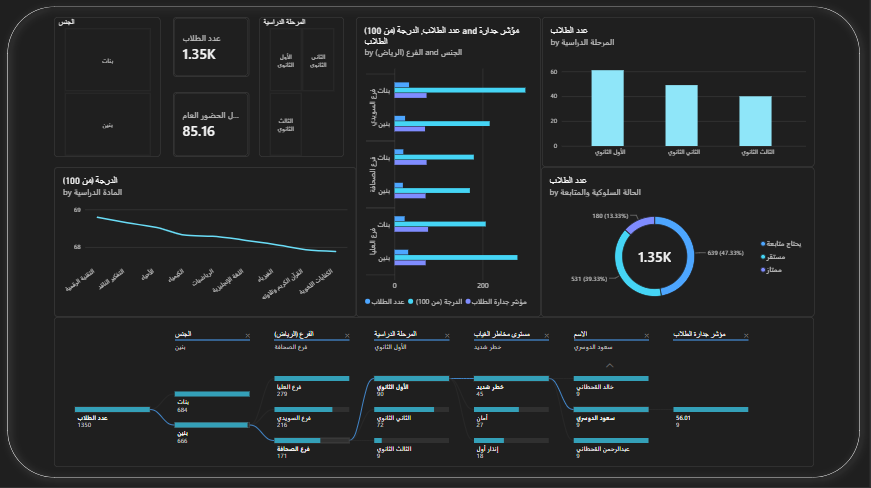

The dashboard page shown, as its layout file describes it:
{"tool":"powerbi","page":{"name":"لوحة تحكم مدرسي","canvas":[1920,1080],"ordinal":0},"visuals":[{"type":"shape","box":[87.5,50,1742.5,980],"z":0},{"type":"cardVisual","fields":{"Data":["CountNonNull(الأداء الأكاديمي والدرجات.رقم الطالب)"]},"box":[437.5,90,152.5,120],"z":1000},{"type":"cardVisual","fields":{"Data":["Avg(بيانات الطلاب الشخصية.معدل الحضور العام (%))"]},"box":[437.5,240,152.5,130],"z":2000},{"type":"lineChart","fields":{"Category":["الأداء الأكاديمي والدرجات.المادة الدراسية"],"Y":["Avg(الأداء الأكاديمي والدرجات.الدرجة (من 100))"]},"box":[200,390,605,300],"z":3000},{"type":"donutChart","fields":{"Category":["الأداء الأكاديمي والدرجات.الحالة السلوكية والمتابعة"],"Y":["CountNonNull(الأداء الأكاديمي والدرجات.رقم الطالب)"]},"box":[1174.2,390.6,546.8,299.8],"z":4000},{"type":"clusteredBarChart","fields":{"Category":["بيانات الطلاب الشخصية.الفرع (الرياض)","بيانات الطلاب الشخصية.الجنس"],"Y":["CountNonNull(بيانات الطلاب الشخصية.رقم الطالب)","CountNonNull(الأداء الأكاديمي والدرجات.الدرجة (من 100))","Avg(بيانات الطلاب الشخصية.مؤشر جدارة الطلاب)"]},"box":[803.8,90.7,370.4,599.7],"z":5000},{"type":"clusteredColumnChart","fields":{"Category":["بيانات الطلاب الشخصية.المرحلة الدراسية"],"Y":["CountNonNull(بيانات الطلاب الشخصية.رقم الطالب)"]},"box":[1175,90,545,300],"z":6000},{"type":"slicer","fields":{"Values":["بيانات الطلاب الشخصية.الجنس"]},"box":[200,90,212.5,280],"z":7000},{"type":"slicer","fields":{"Values":["بيانات الطلاب الشخصية.المرحلة الدراسية"]},"box":[610,90,170,280],"z":8000},{"type":"decompositionTreeVisual","fields":{"Analyze":["CountNonNull(الأداء الأكاديمي والدرجات.رقم الطالب)"],"ExplainBy":["بيانات الطلاب الشخصية.الجنس","بيانات الطلاب الشخصية.الفرع (الرياض)","بيانات الطلاب الشخصية.المرحلة الدراسية","بيانات الطلاب الشخصية.مستوى مخاطر الغياب","بيانات الطلاب الشخصية.الاسم","بيانات الطلاب الشخصية.مؤشر جدارة الطلاب"]},"box":[200,690,1520,300],"z":9000}]}

Visuals, with their boxes in screenshot pixels (x1, y1, x2, y2), scaled from the page's 1920x1080 canvas onto the 871x488 screenshot:
shape: (x1=40, y1=23, x2=830, y2=465)
cardVisual - CountNonNull(الأداء الأكاديمي والدرجات.رقم الطالب): (x1=198, y1=41, x2=268, y2=95)
cardVisual - Avg(بيانات الطلاب الشخصية.معدل الحضور العام (%)): (x1=198, y1=108, x2=268, y2=167)
lineChart - الأداء الأكاديمي والدرجات.المادة الدراسية x Avg(الأداء الأكاديمي والدرجات.الدرجة (من 100)): (x1=91, y1=176, x2=365, y2=312)
donutChart - الأداء الأكاديمي والدرجات.الحالة السلوكية والمتابعة x CountNonNull(الأداء الأكاديمي والدرجات.رقم الطالب): (x1=533, y1=176, x2=781, y2=312)
clusteredBarChart - بيانات الطلاب الشخصية.الفرع (الرياض) x بيانات الطلاب الشخصية.الجنس: (x1=365, y1=41, x2=533, y2=312)
clusteredColumnChart - بيانات الطلاب الشخصية.المرحلة الدراسية x CountNonNull(بيانات الطلاب الشخصية.رقم الطالب): (x1=533, y1=41, x2=780, y2=176)
slicer - بيانات الطلاب الشخصية.الجنس: (x1=91, y1=41, x2=187, y2=167)
slicer - بيانات الطلاب الشخصية.المرحلة الدراسية: (x1=277, y1=41, x2=354, y2=167)
decompositionTreeVisual - CountNonNull(الأداء الأكاديمي والدرجات.رقم الطالب) x بيانات الطلاب الشخصية.الجنس: (x1=91, y1=312, x2=780, y2=447)
